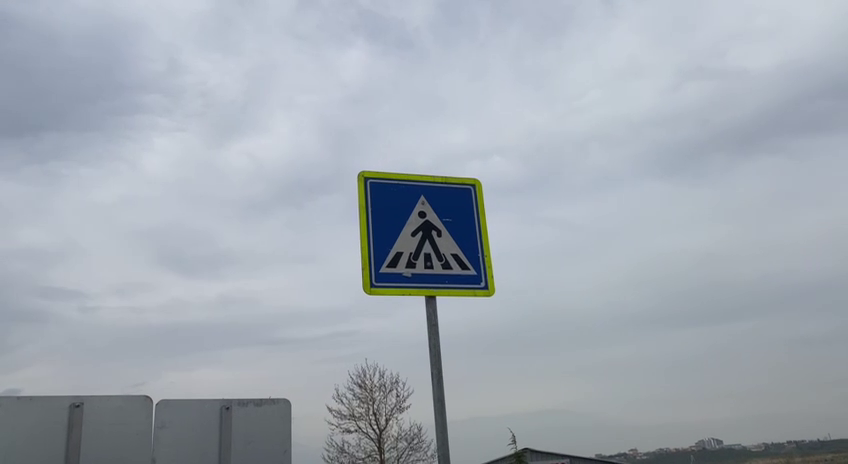pedestrianCrossing: (354, 169, 498, 300)
